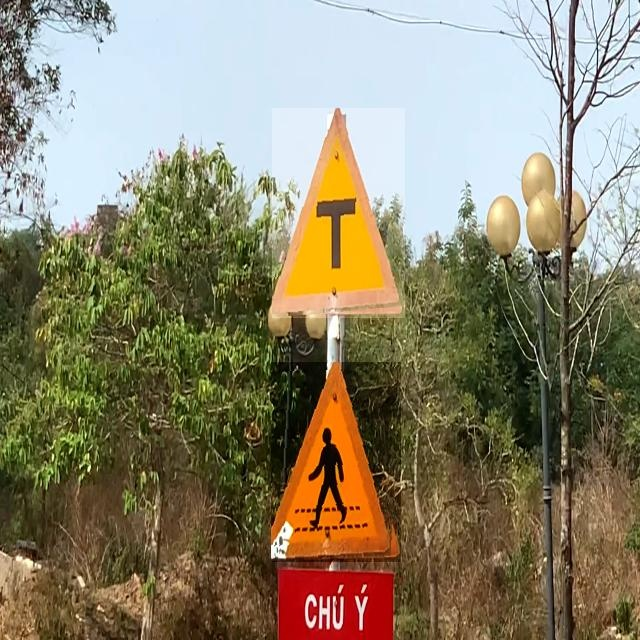bien_nguy_hiem: (272, 108, 405, 318), (271, 362, 401, 562)
